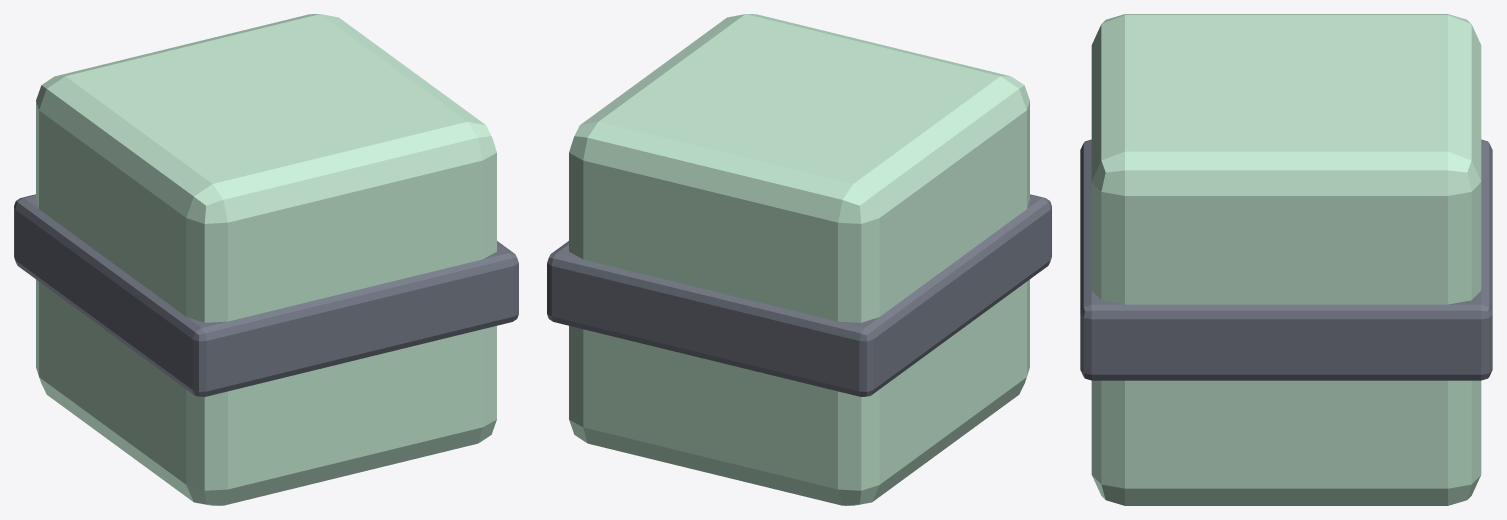
Rendered from TitaniumSponge.fbx.
3 renders of one model, left to right at view 1: azimuth 30°, elevation 25°; view 2: azimuth 150°, elevation 25°; view 3: azimuth 270°, elevation 25°, orthographic. The views are drawn at different scales.
Visible parts, largest first — view 1: MainMesh; view 2: MainMesh; view 3: MainMesh.
Part boxes in pixels (x1=…): MainMesh: x1=14, y1=14, x2=518, y2=505; MainMesh: x1=547, y1=14, x2=1051, y2=505; MainMesh: x1=1080, y1=14, x2=1492, y2=505.
Size of the model in its own units: 1.48 by 1.4 by 1.48.
